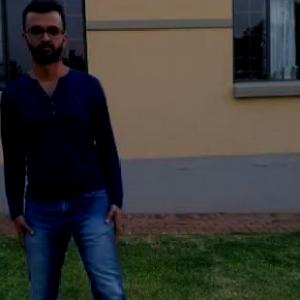follow: (0, 0, 111, 299)
